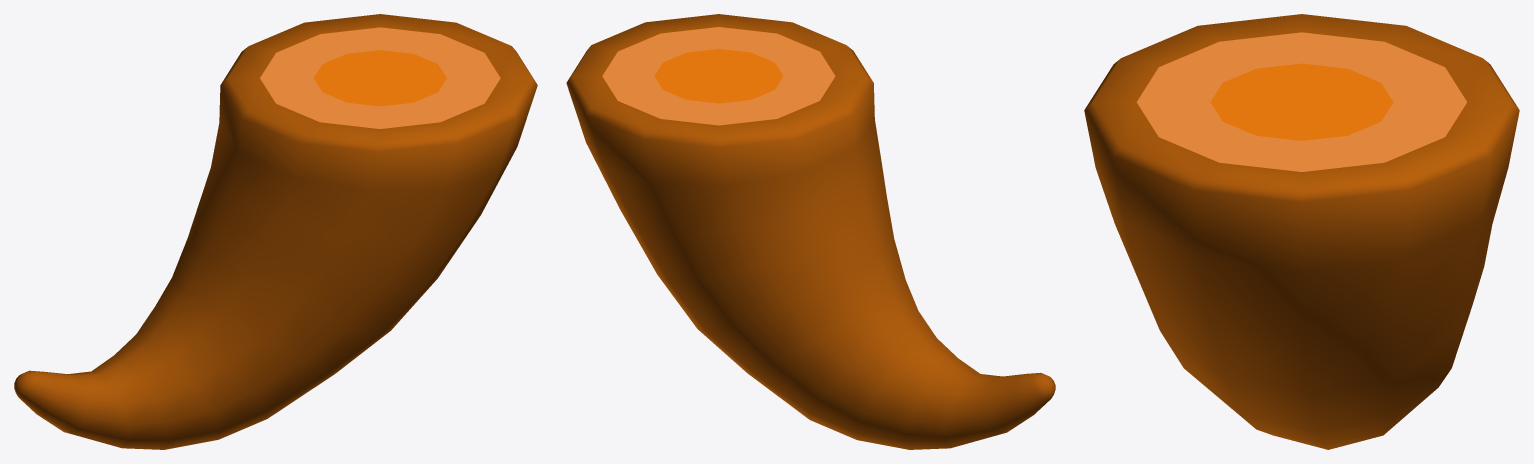
Rendered from Hot_peper_green_half_01.fbx.
The picture shows the model from 3 angles, left to right: view 1: azimuth 30°, elevation 25°; view 2: azimuth 150°, elevation 25°; view 3: azimuth 270°, elevation 25°; orthographic projection. The views are drawn at different scales.
Parts seen in each view (by area): view 1: Hot_peper_green_half_01; view 2: Hot_peper_green_half_01; view 3: Hot_peper_green_half_01.
Boxes of the visible parts, x1=… form: Hot_peper_green_half_01: x1=14, y1=14, x2=537, y2=449; Hot_peper_green_half_01: x1=566, y1=14, x2=1055, y2=449; Hot_peper_green_half_01: x1=1084, y1=14, x2=1519, y2=449.
Size of the model in its own units: 75.86 by 42.41 by 47.5.
